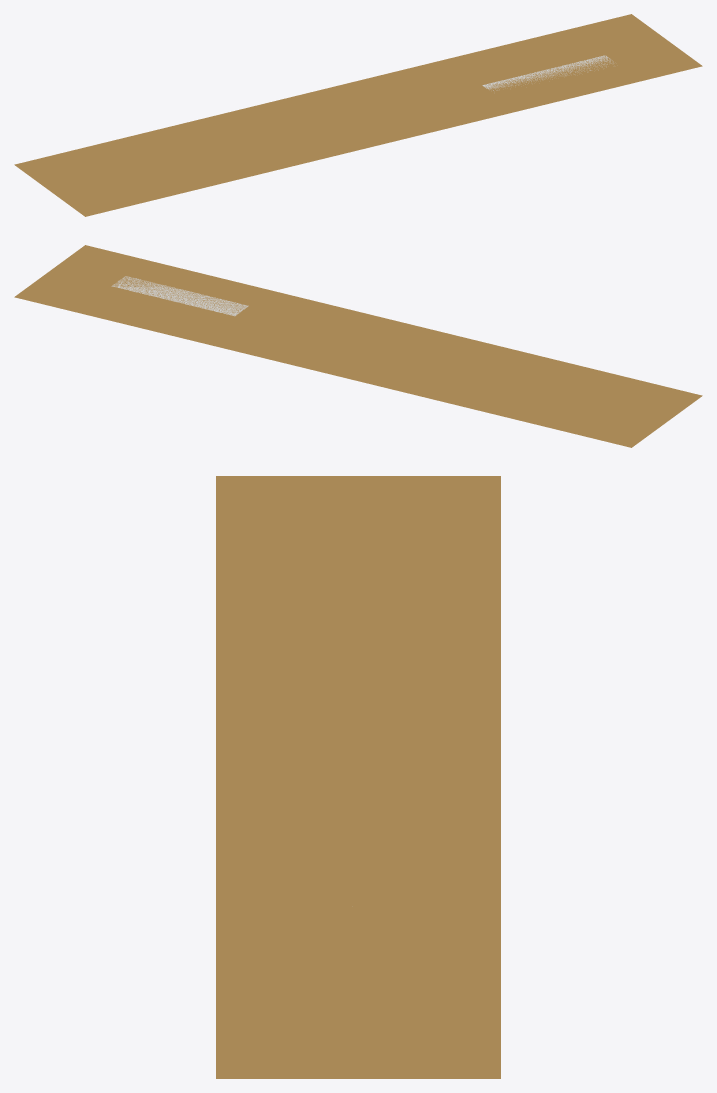
The model's file is HierarchyScene.gltf.
The picture shows the model from 3 angles, top to bottom: view 1: azimuth 30°, elevation 25°; view 2: azimuth 150°, elevation 25°; view 3: azimuth 270°, elevation 25°; orthographic projection. The views are drawn at different scales.
Parts seen in each view (by area): view 1: Door, Handle; view 2: Door, Handle; view 3: Door.
Boxes of the visible parts, left/top/right/bottom form: Door: left=14, top=14, right=702, bottom=216; Handle: left=482, top=55, right=613, bottom=90; Door: left=14, top=245, right=702, bottom=447; Handle: left=111, top=276, right=248, bottom=316; Door: left=216, top=476, right=500, bottom=1078.
Size of the model in its own units: 2 by 0 by 0.4.
